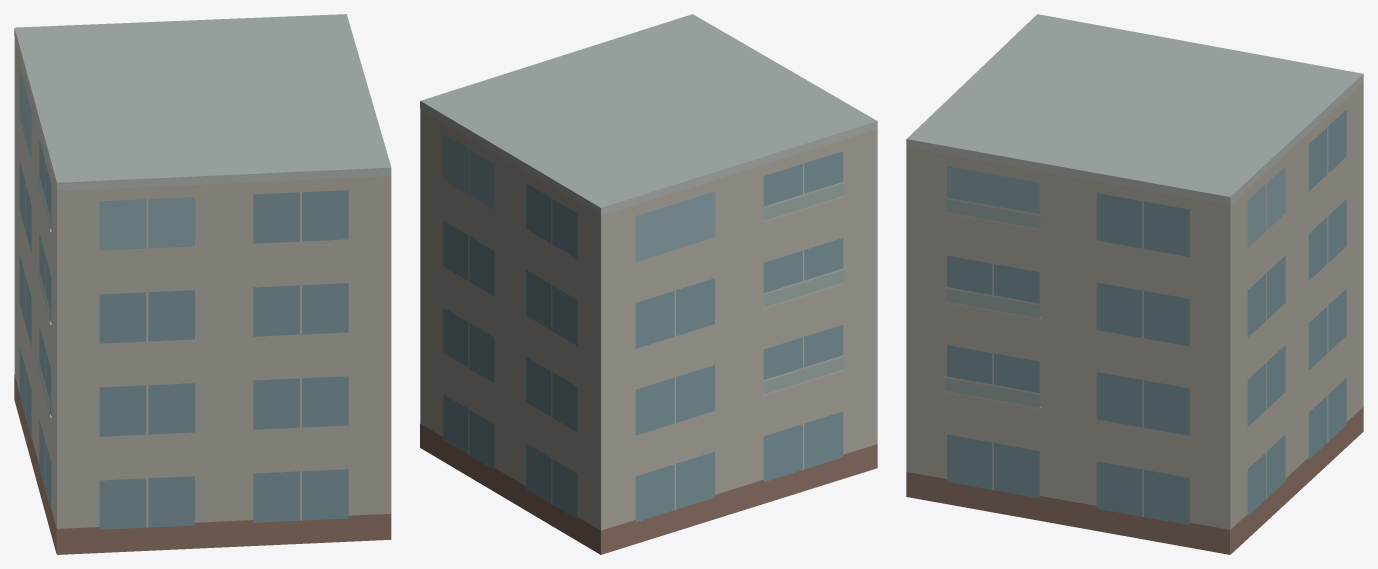
The model's file is survey-upis-32532180.glb.
3 renders of one model, left to right at view 1: azimuth 30°, elevation 25°; view 2: azimuth 150°, elevation 25°; view 3: azimuth 270°, elevation 25°, orthographic. The views are drawn at different scales.
Parts seen in each view (by area): view 1: survey-upis-32532180.tmp; view 2: survey-upis-32532180.tmp; view 3: survey-upis-32532180.tmp.
Part boxes in pixels (left/top/right/bottom): survey-upis-32532180.tmp: left=14, top=14, right=391, bottom=554; survey-upis-32532180.tmp: left=420, top=14, right=877, bottom=554; survey-upis-32532180.tmp: left=906, top=14, right=1363, bottom=554.
Size of the model in its own units: 11.64 by 10.6 by 12.28.
